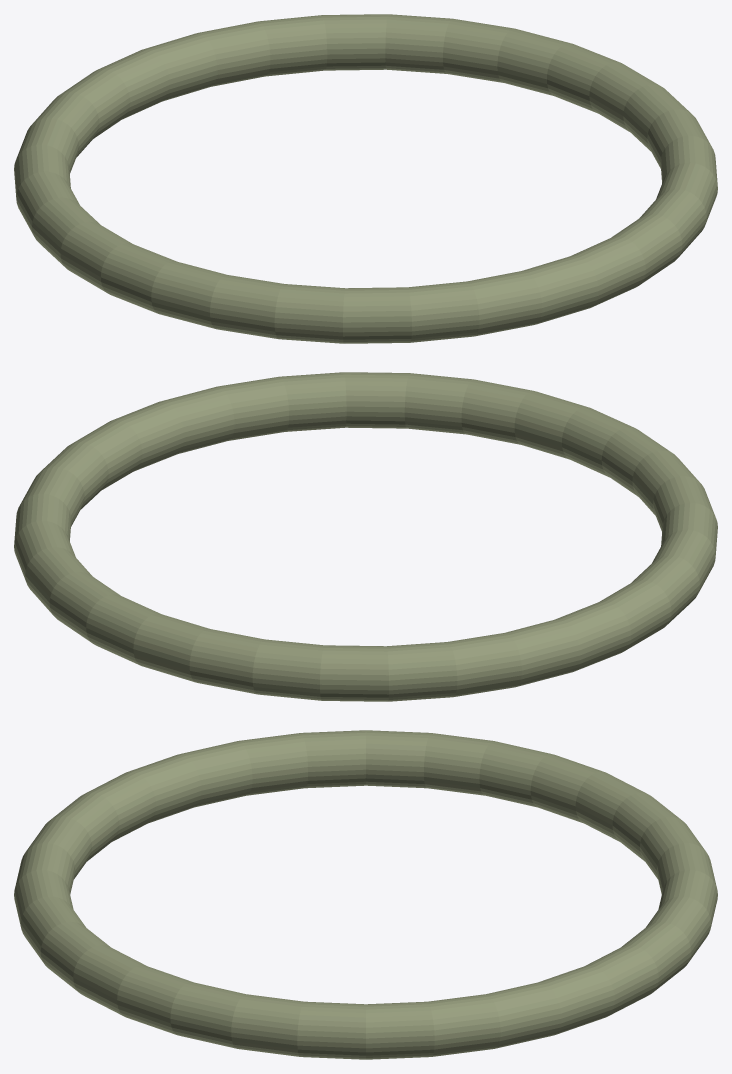
The model's file is army_no4_belt.glb.
The picture shows the model from 3 angles, top to bottom: view 1: azimuth 30°, elevation 25°; view 2: azimuth 150°, elevation 25°; view 3: azimuth 270°, elevation 25°; orthographic projection.
Parts seen in each view (by area): view 1: belt; view 2: belt; view 3: belt.
Part boxes in pixels (left/top/right/bottom): belt: left=14, top=14, right=717, bottom=343; belt: left=14, top=372, right=717, bottom=701; belt: left=14, top=730, right=717, bottom=1059.
Size of the model in its own units: 0.304 by 0.024 by 0.304.
